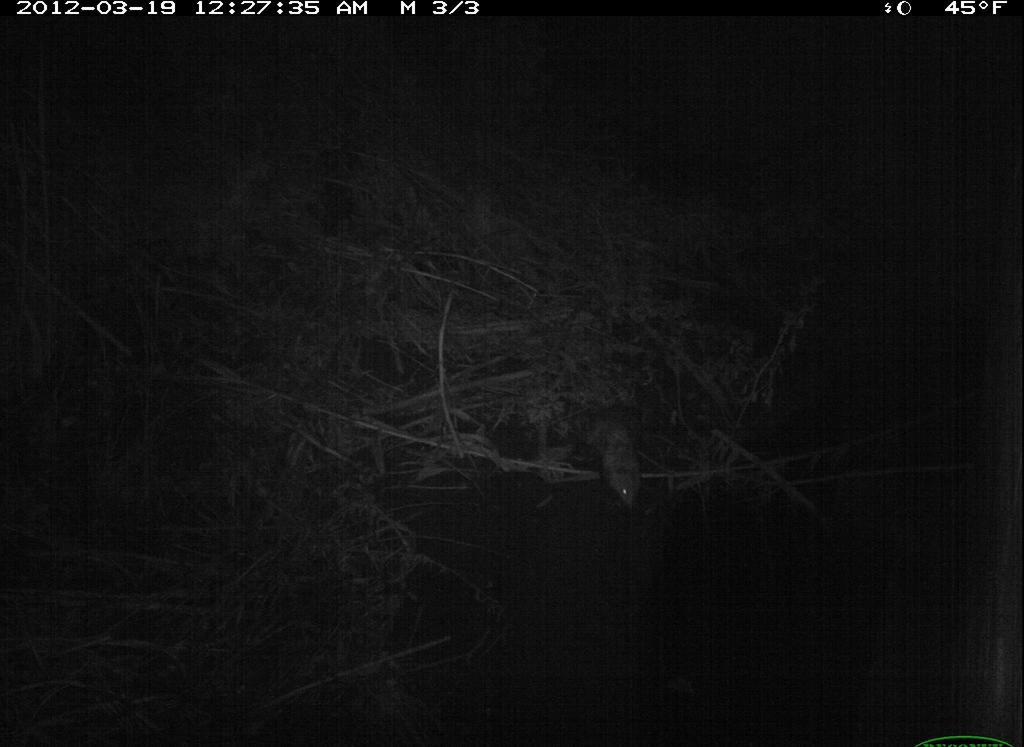opossum: (583, 390, 649, 505)
